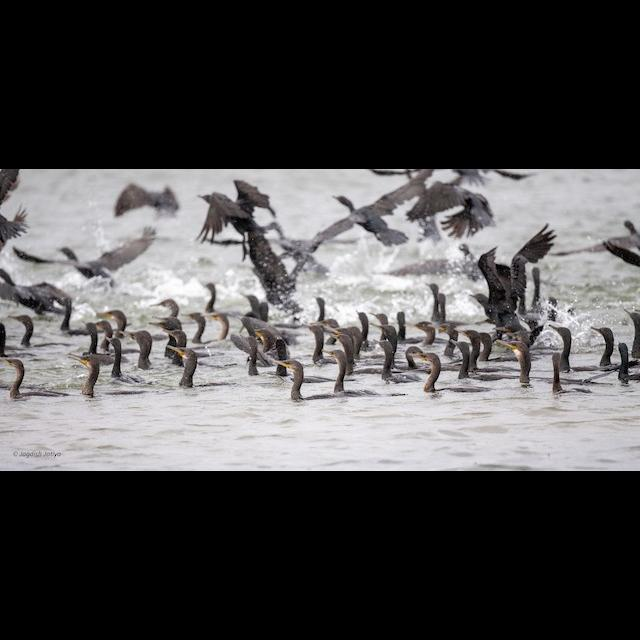cormorant: (24, 240, 152, 282), (313, 190, 402, 248), (496, 338, 536, 388), (164, 344, 203, 392), (64, 352, 100, 400), (270, 358, 306, 406), (320, 348, 352, 398), (2, 356, 32, 402), (152, 300, 186, 340), (588, 322, 616, 368), (421, 276, 454, 314), (418, 352, 444, 396), (10, 312, 40, 350), (546, 352, 572, 392), (544, 322, 580, 348), (97, 308, 129, 332), (209, 312, 231, 342)
